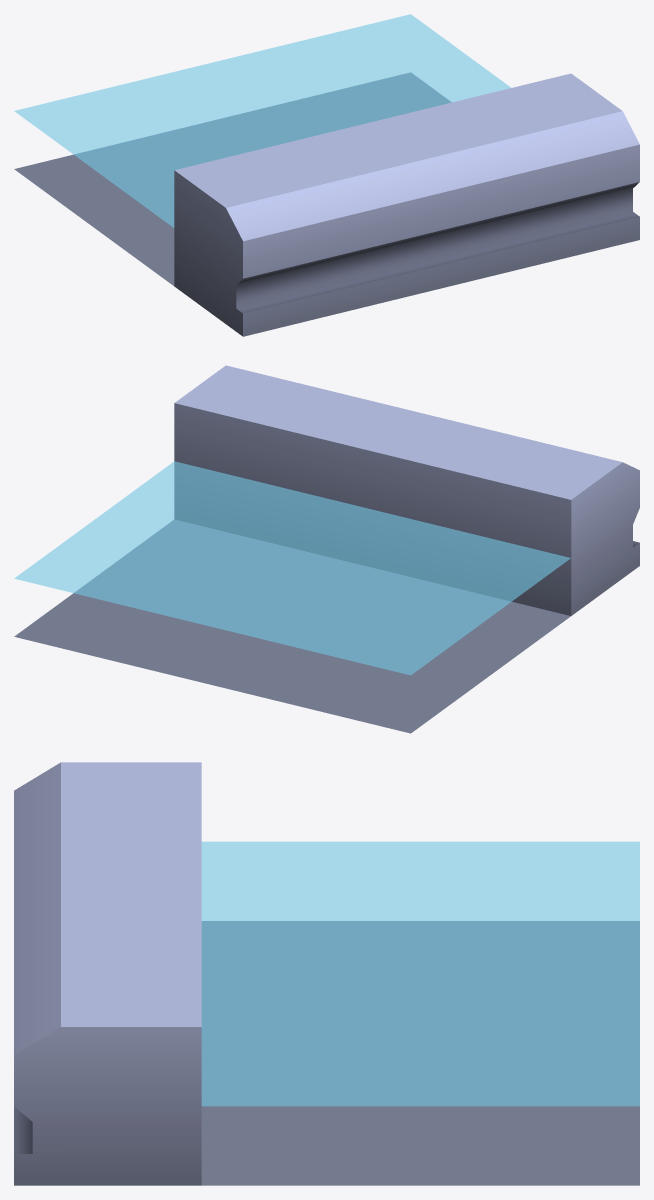
The model's file is kenney-fantasy-town-fountain-edge.glb.
3 renders of one model, top to bottom at view 1: azimuth 30°, elevation 25°; view 2: azimuth 150°, elevation 25°; view 3: azimuth 270°, elevation 25°, orthographic. The views are drawn at different scales.
Parts seen in each view (by area): view 1: fountain-edge, (%ignore); view 2: fountain-edge, (%ignore); view 3: fountain-edge, (%ignore).
Boxes of the visible parts, <box> form: fountain-edge: <box>14,72,639,336</box>; (%ignore): <box>14,14,510,227</box>; fountain-edge: <box>14,365,639,733</box>; (%ignore): <box>14,461,570,675</box>; fountain-edge: <box>14,762,639,1185</box>; (%ignore): <box>201,841,639,1106</box>.
Size of the model in its own units: 1 by 0.2799 by 1.
2 materials, 1 textured.
